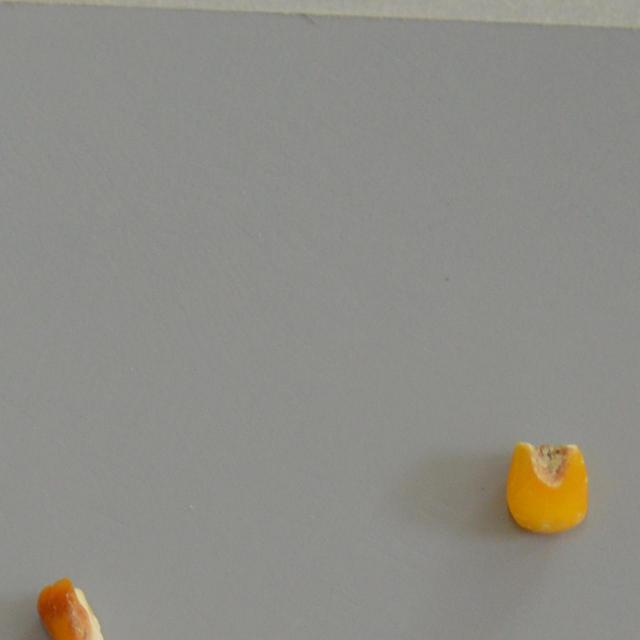dañado: (504, 436, 590, 540), (38, 578, 106, 640)
